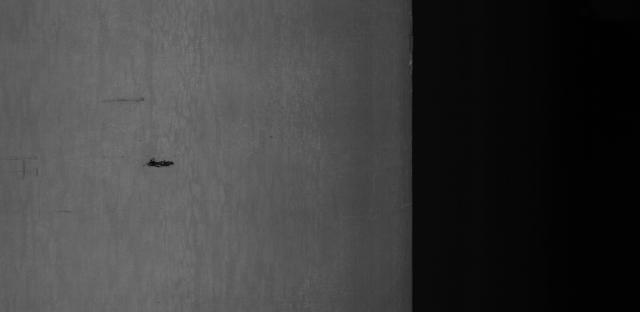inclusion: (139, 153, 182, 174)
silk_spot: (145, 7, 211, 116)
